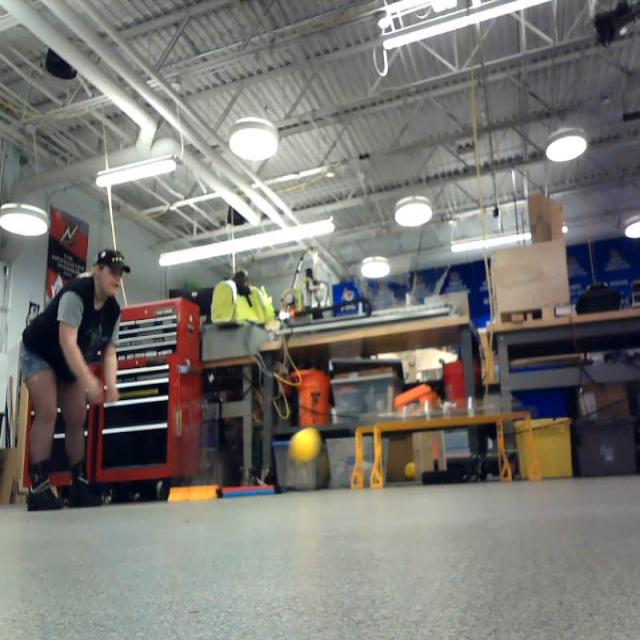Fuel: (292, 427, 318, 465), (405, 462, 418, 479)
